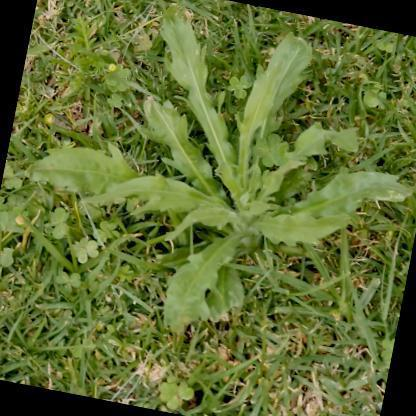Weeds: (2, 0, 415, 376)
